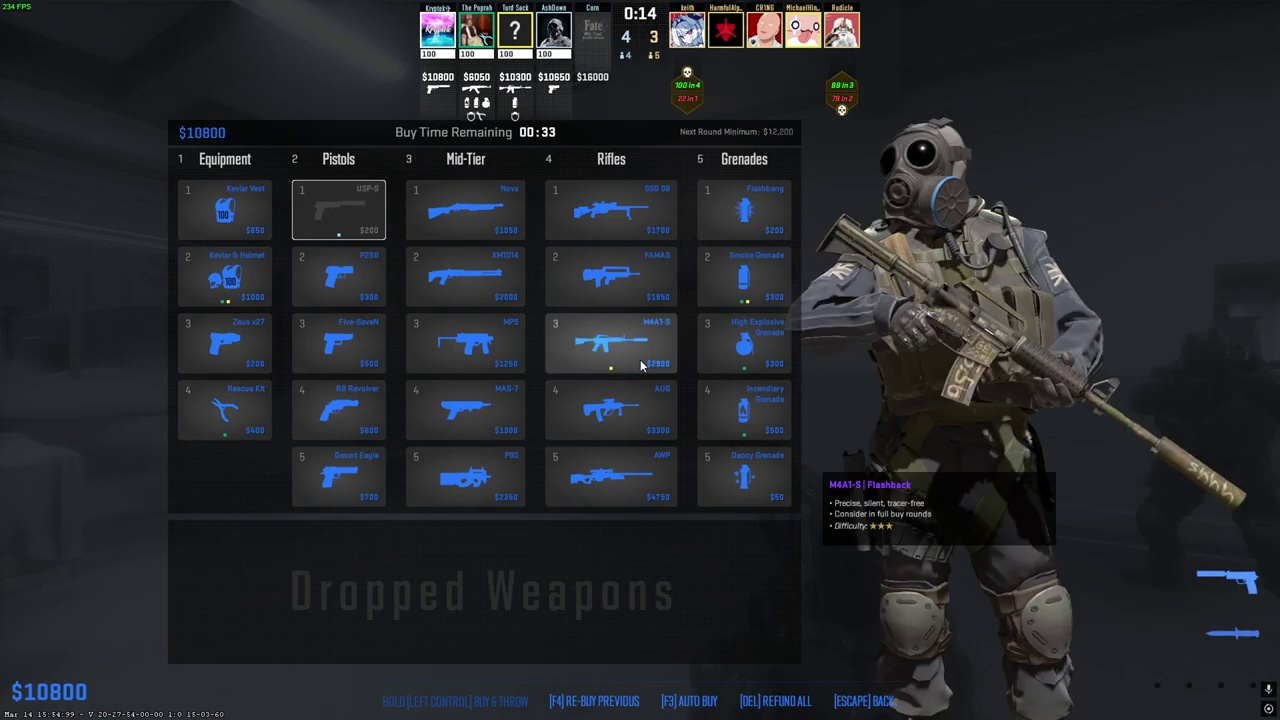CT: (854, 123, 1088, 720)
